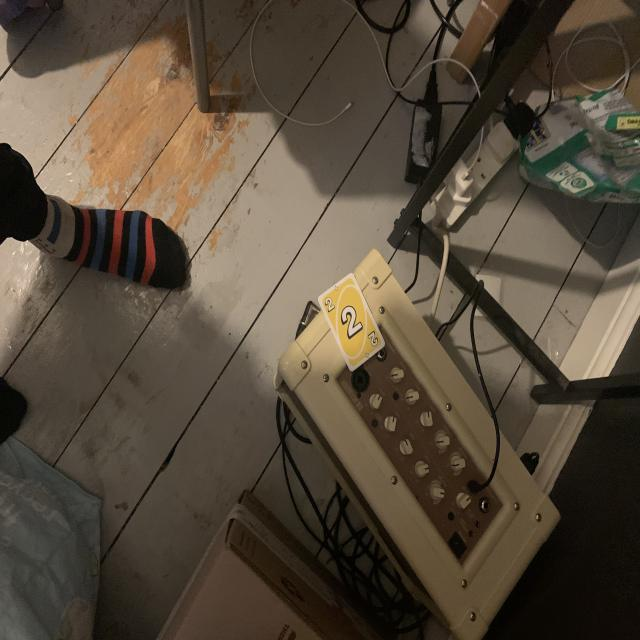lyellow-2: (323, 294, 337, 314)
